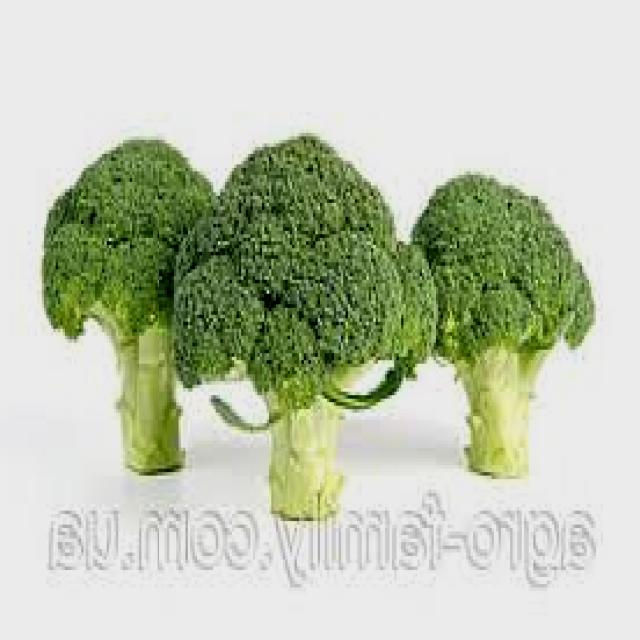broccoli: (184, 94, 411, 572), (409, 112, 596, 474), (24, 142, 214, 490)
